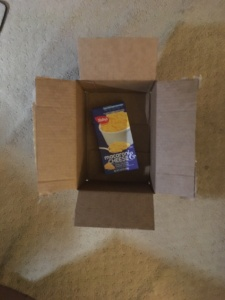innerbox: (77, 81, 154, 195)
outerbox: (36, 39, 195, 230)
product: (92, 102, 140, 174)
